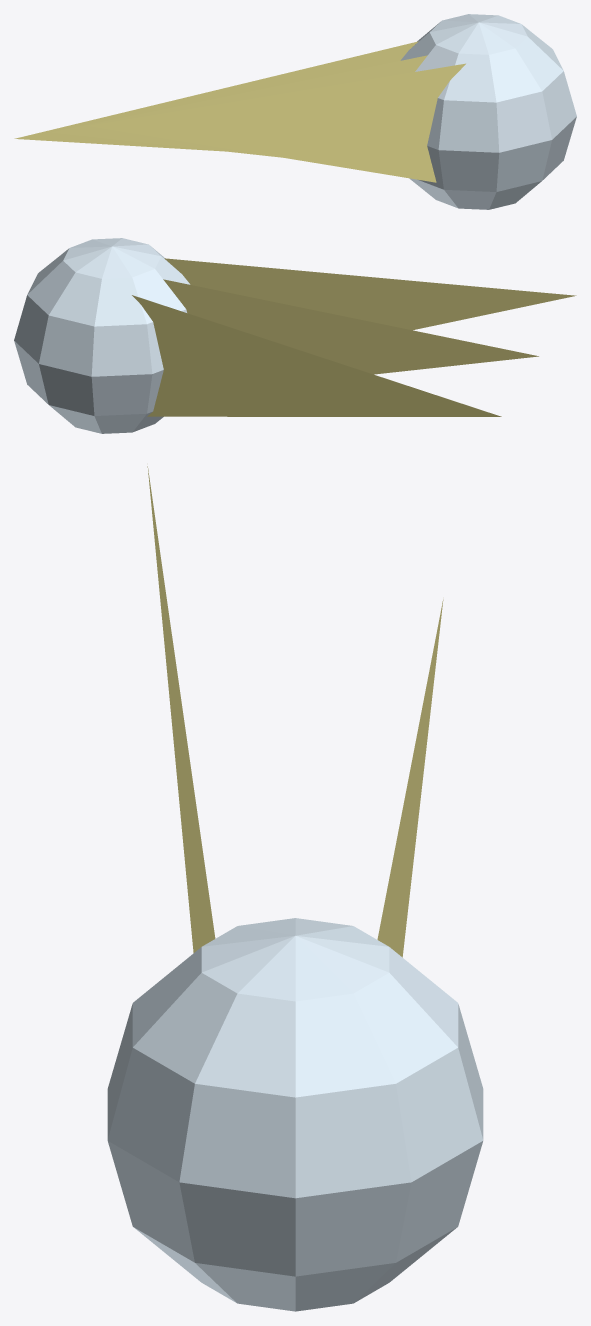
File: komet.glb
3 renders of one model, top to bottom at view 1: azimuth 30°, elevation 25°; view 2: azimuth 150°, elevation 25°; view 3: azimuth 270°, elevation 25°, orthographic. The views are drawn at different scales.
Parts seen in each view (by area): view 1: komet; view 2: komet; view 3: komet.
Part boxes in pixels (x1,y1,x2,y2): komet: [14, 14, 576, 209]; komet: [14, 238, 576, 433]; komet: [107, 466, 483, 1311].
Bounding box in the file's own units: 0.96 × 0.37 × 0.3044.
